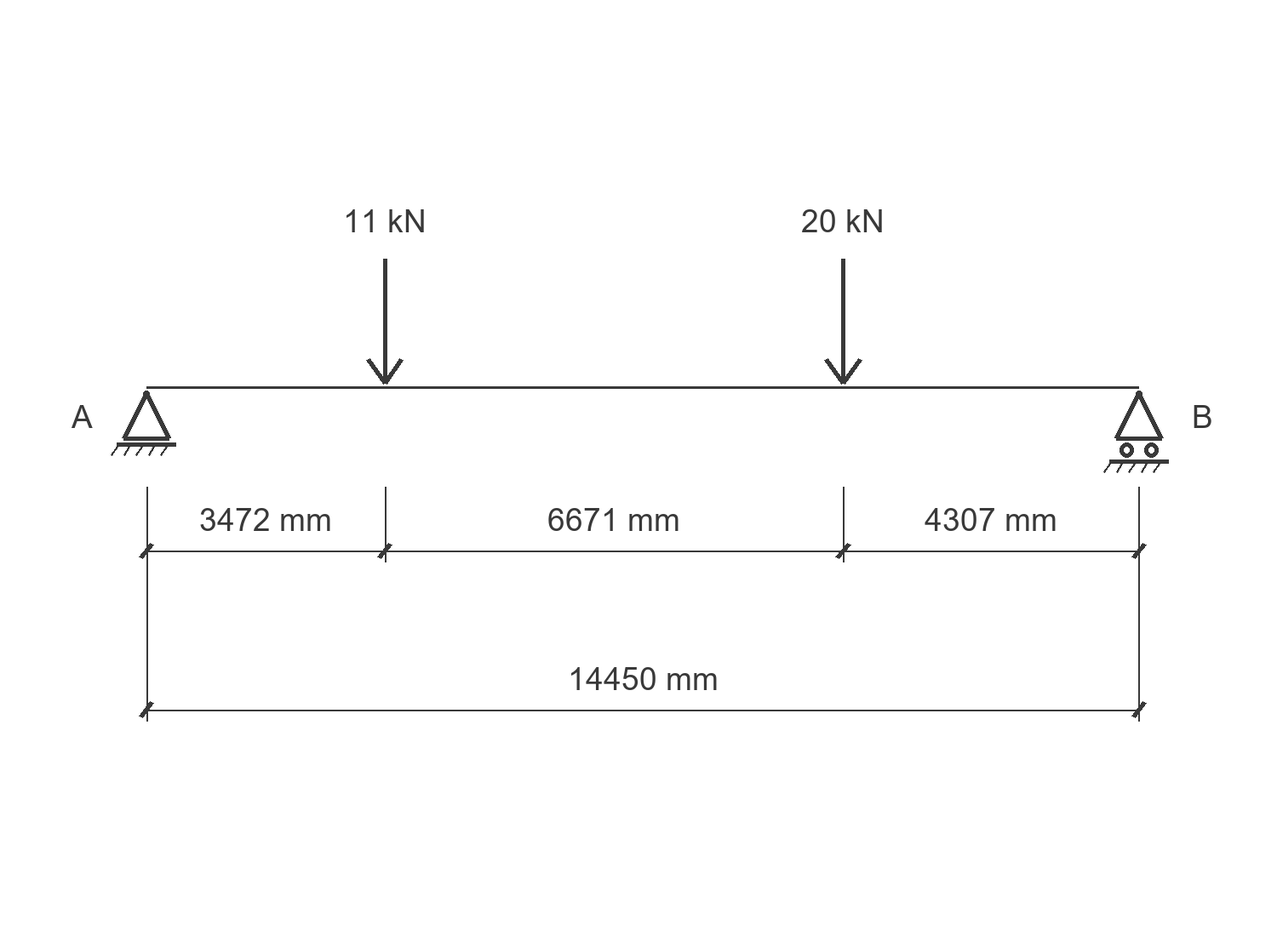pin_support: (111, 391, 176, 456)
point_load: (366, 259, 404, 385), (824, 259, 862, 385)
roller_support: (1103, 391, 1169, 473)
